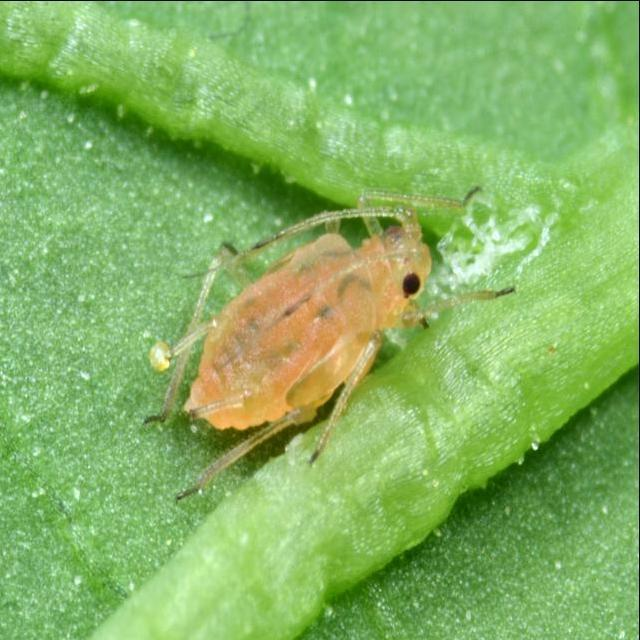aphid: (148, 130, 494, 500)
